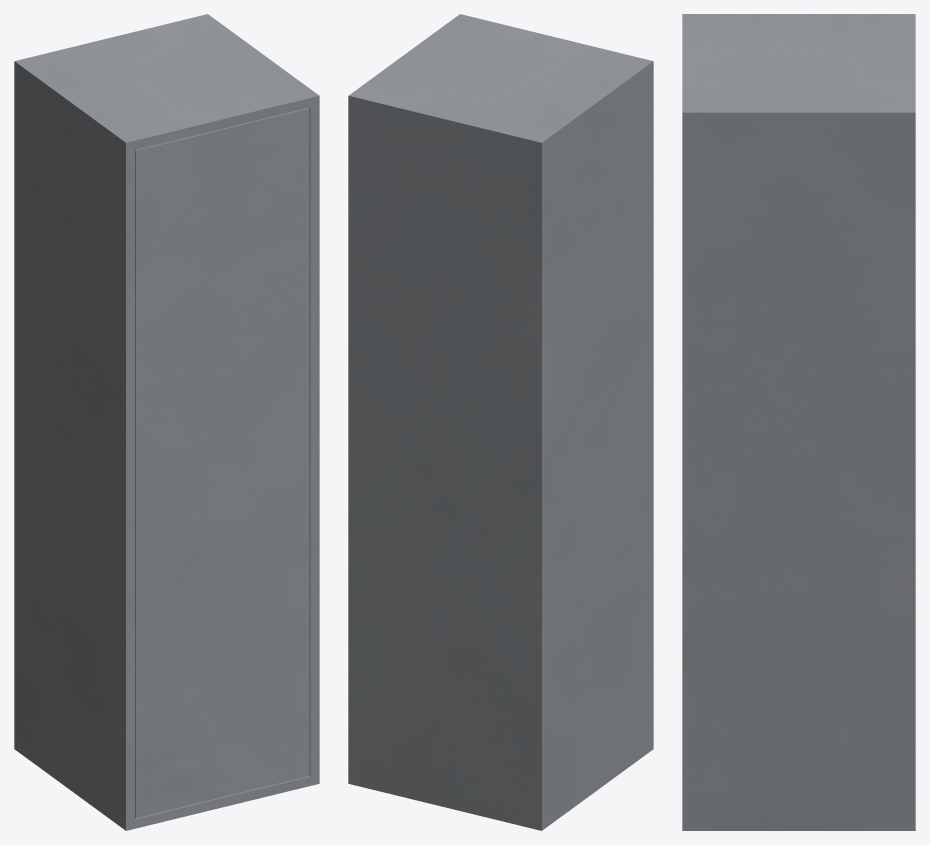
Rendered from Locker.fbx.
3 views of the same model, side by side, from view 1: azimuth 30°, elevation 25°; view 2: azimuth 150°, elevation 25°; view 3: azimuth 270°, elevation 25° (orthographic). The views are drawn at different scales.
Visible parts, largest first — view 1: LockerDoor, Locker; view 2: Locker; view 3: Locker.
Part boxes in pixels (<box>): LockerDoor: <box>135,108,309,818</box>; Locker: <box>14,14,319,830</box>; Locker: <box>348,14,653,830</box>; Locker: <box>682,14,915,830</box>.
Bounding box in the file's own units: 0.5 × 1.7 × 0.5.
